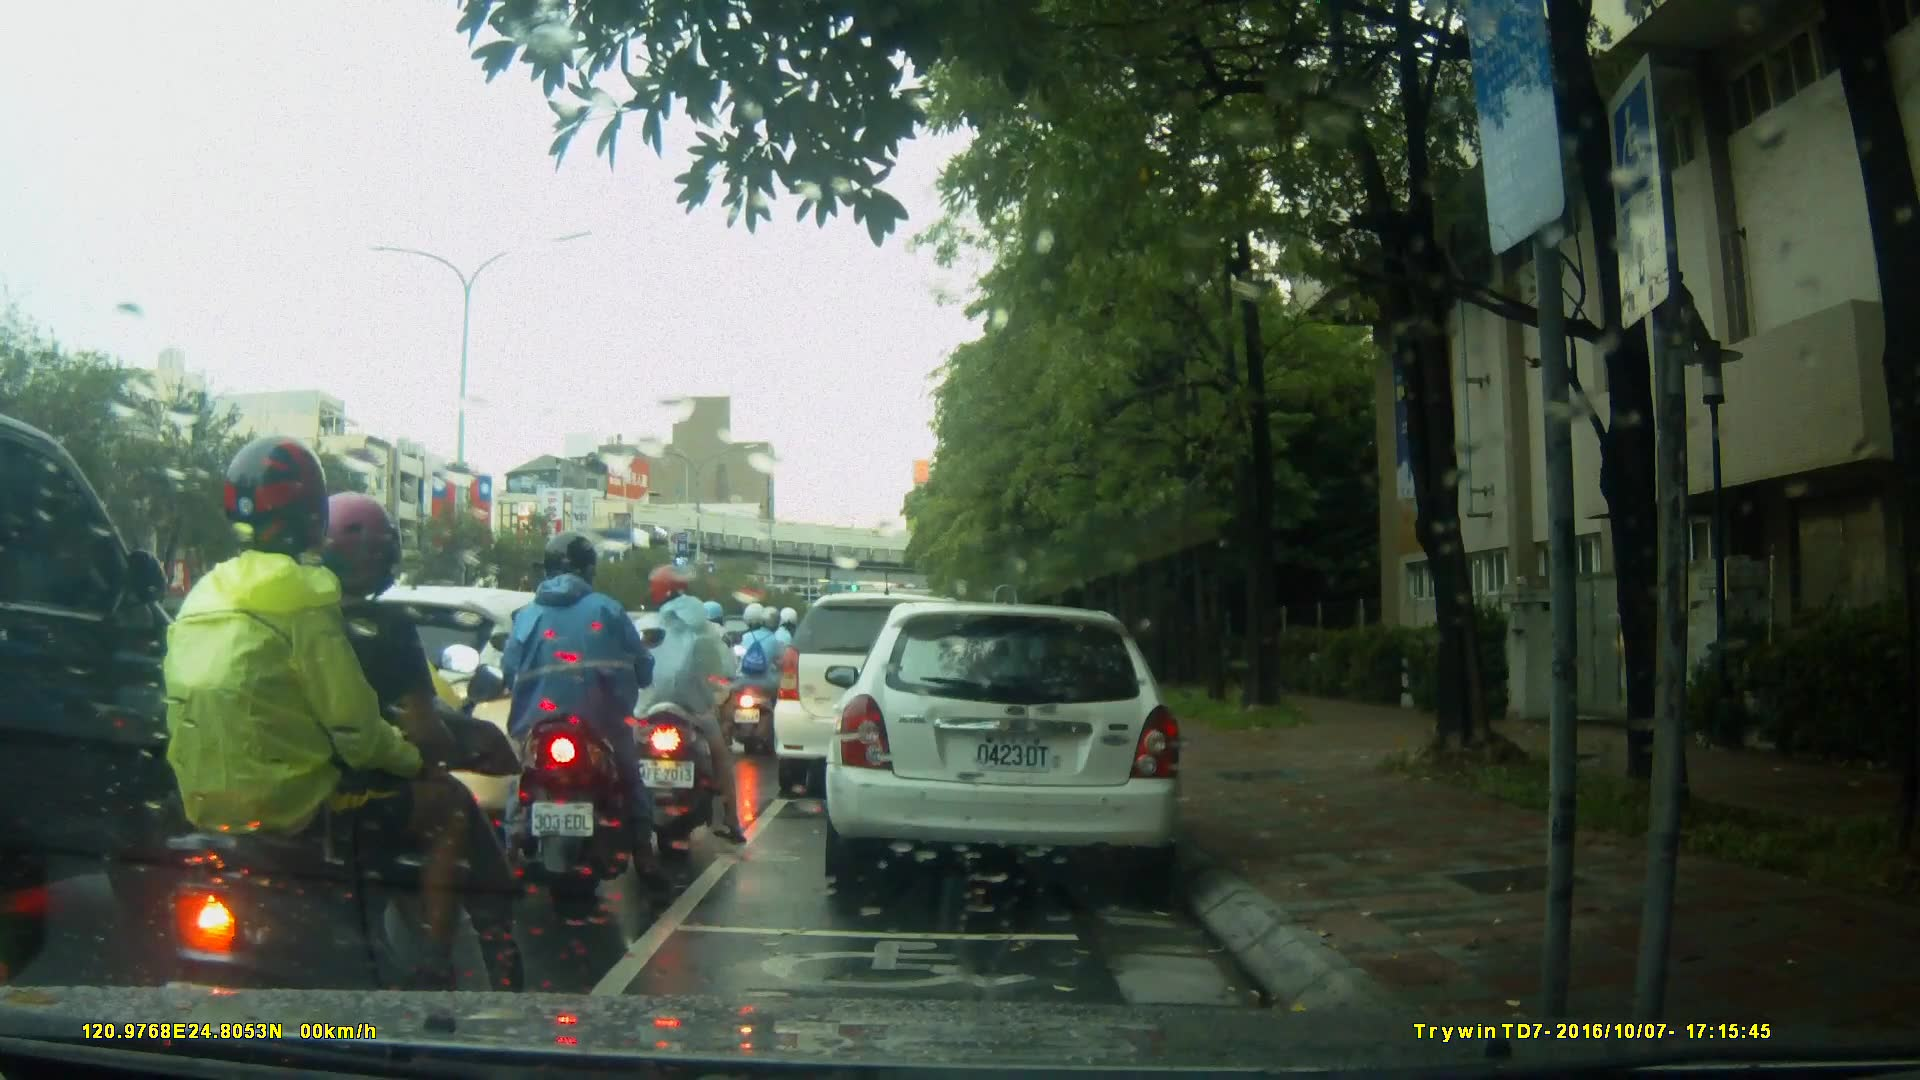rider: (153, 440, 515, 1071), (257, 533, 502, 1000), (507, 539, 678, 894), (623, 565, 741, 829), (676, 602, 745, 771), (756, 604, 807, 732)
vehicle: (1, 406, 228, 987), (822, 604, 1188, 883), (270, 581, 623, 838), (774, 595, 995, 802)
